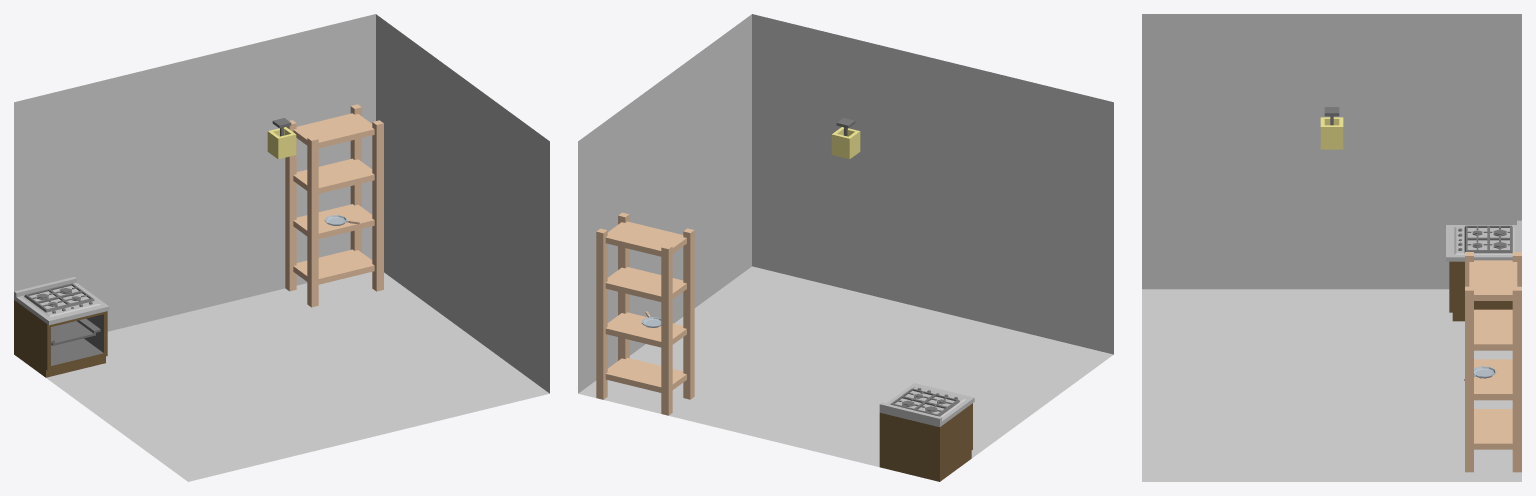
The model's file is Tutorial.glb.
3 renders of one model, left to right at view 1: azimuth 30°, elevation 25°; view 2: azimuth 150°, elevation 25°; view 3: azimuth 270°, elevation 25°, orthographic. The views are drawn at different scales.
Parts seen in each view (by area): view 1: Room, Shellf, Stove, CeilingLamp; view 2: Room, Shellf, Stove, CeilingLamp; view 3: Room, Shellf, Stove, CeilingLamp.
Part boxes in pixels (box(x1,y1,x2,y2)): Room: box(14, 14, 549, 481); Shellf: box(285, 104, 383, 307); Stove: box(14, 277, 109, 377); CeilingLamp: box(267, 118, 296, 159); Room: box(578, 14, 1113, 467); Shellf: box(596, 212, 694, 415); Stove: box(879, 383, 974, 481); CeilingLamp: box(831, 118, 860, 159); Room: box(1142, 14, 1521, 481); Shellf: box(1465, 252, 1521, 472); Stove: box(1446, 220, 1521, 321); CeilingLamp: box(1320, 107, 1343, 149).
Size of the model in its own units: 6 by 4 by 5.
